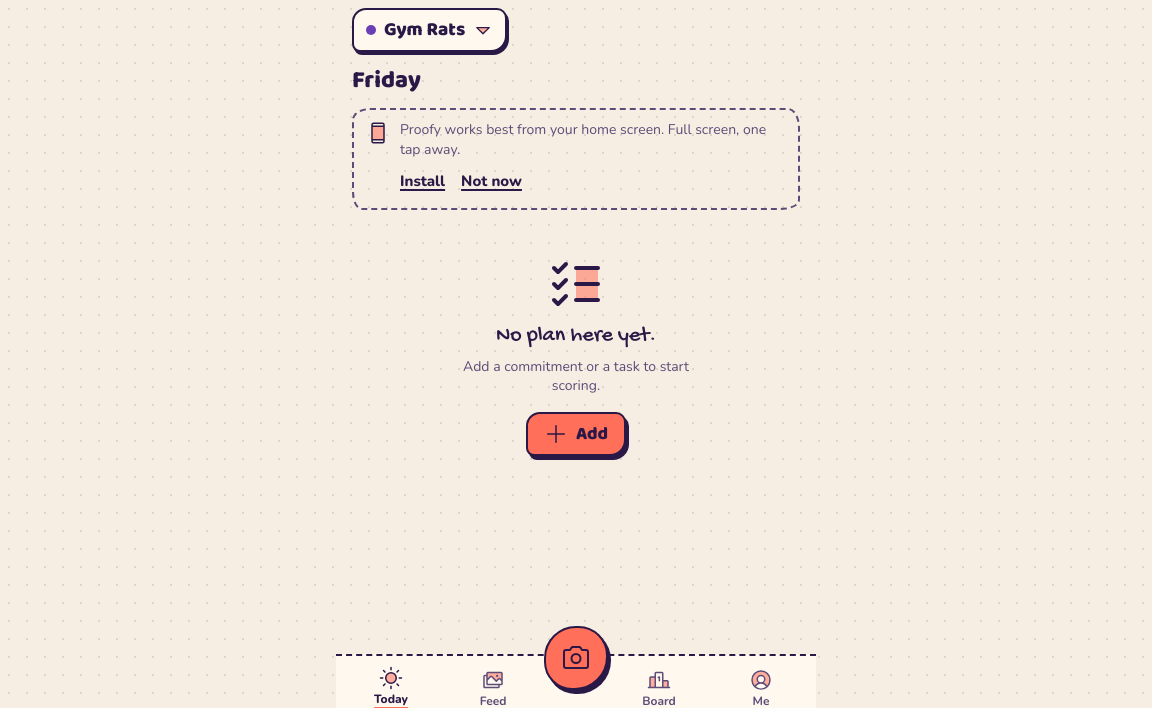
Scenario: Plan sheet (add a commitment) › "+ Add" opens the sheet with the commitment fields, the start note and Save
What coordinates should you click on to do the following:
click the button with aria-label "Add a commitment or task"
I would click on:
 (576, 434)
Its box is [526, 412, 626, 456].
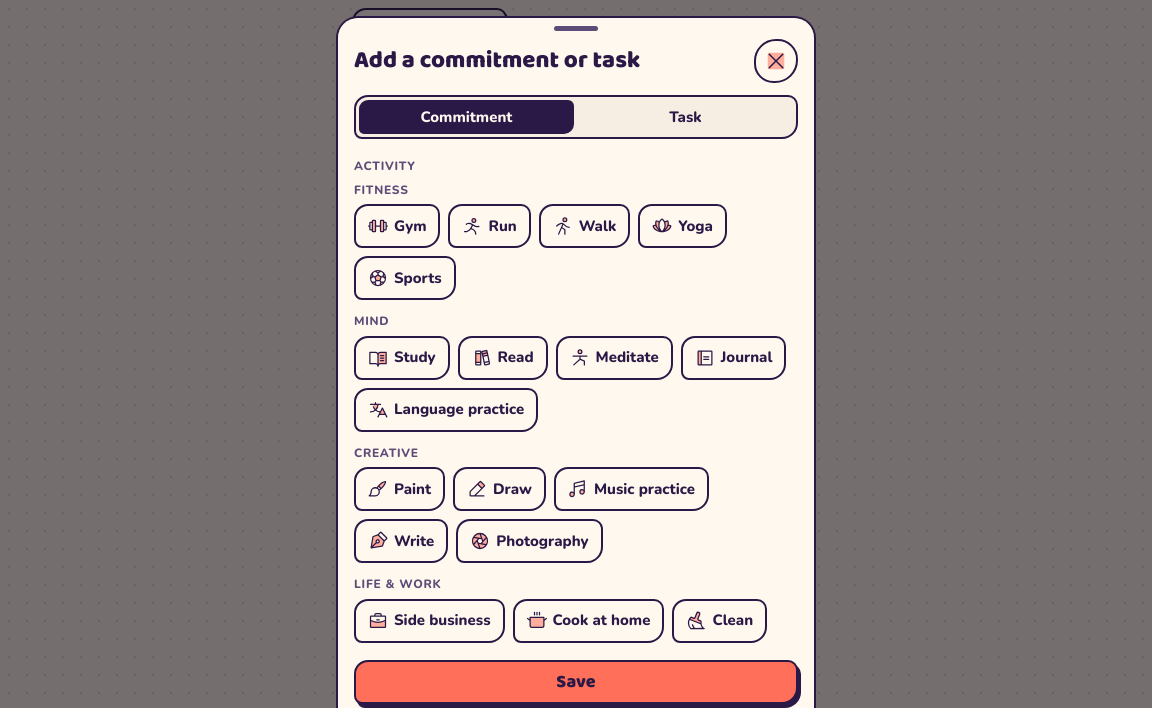
Result: the radio button labelled "Run" is shown at [448, 204, 531, 248]
Result: the heading "Add a commitment or task" is shown at [354, 41, 640, 80]
Result: the element named "Activity" is shown at [354, 183, 798, 695]
